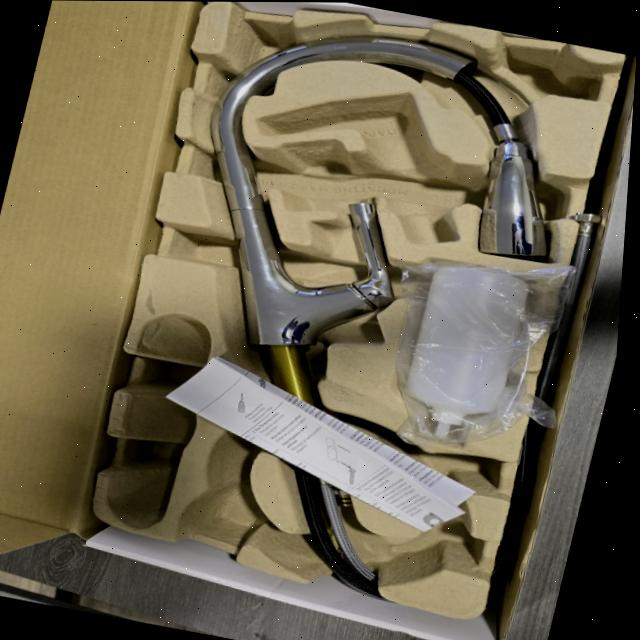1o: (211, 34, 548, 600)
2m: (258, 92, 457, 241)
3: (408, 263, 527, 438)
4m: (109, 315, 210, 529)
5m: (181, 488, 262, 546)
6m: (385, 515, 489, 574)
7m: (362, 431, 499, 513)
8: (163, 354, 476, 533)
